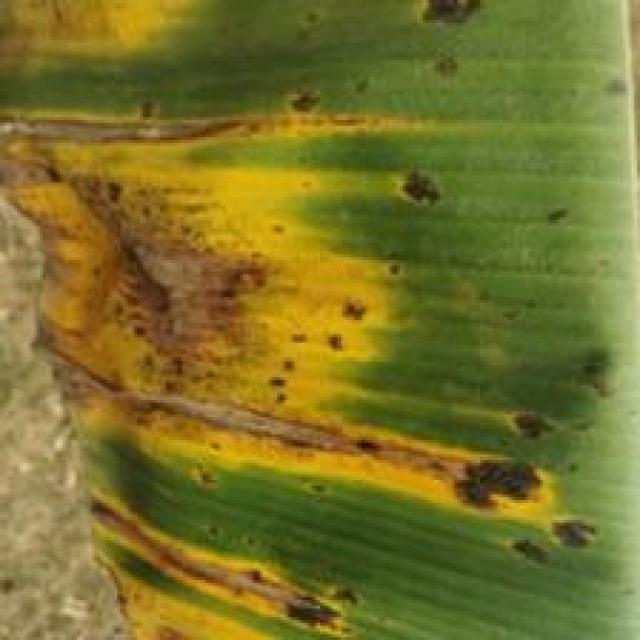Downey_mildrew: (1, 0, 601, 640)
